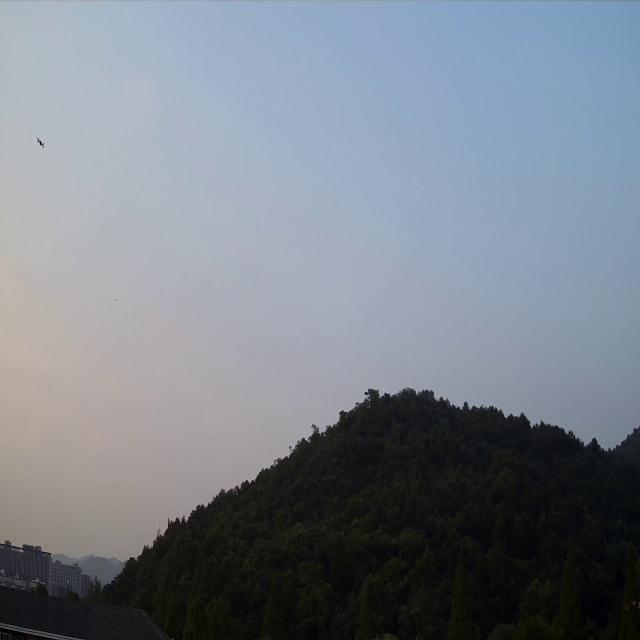UAV: (35, 134, 45, 150)
